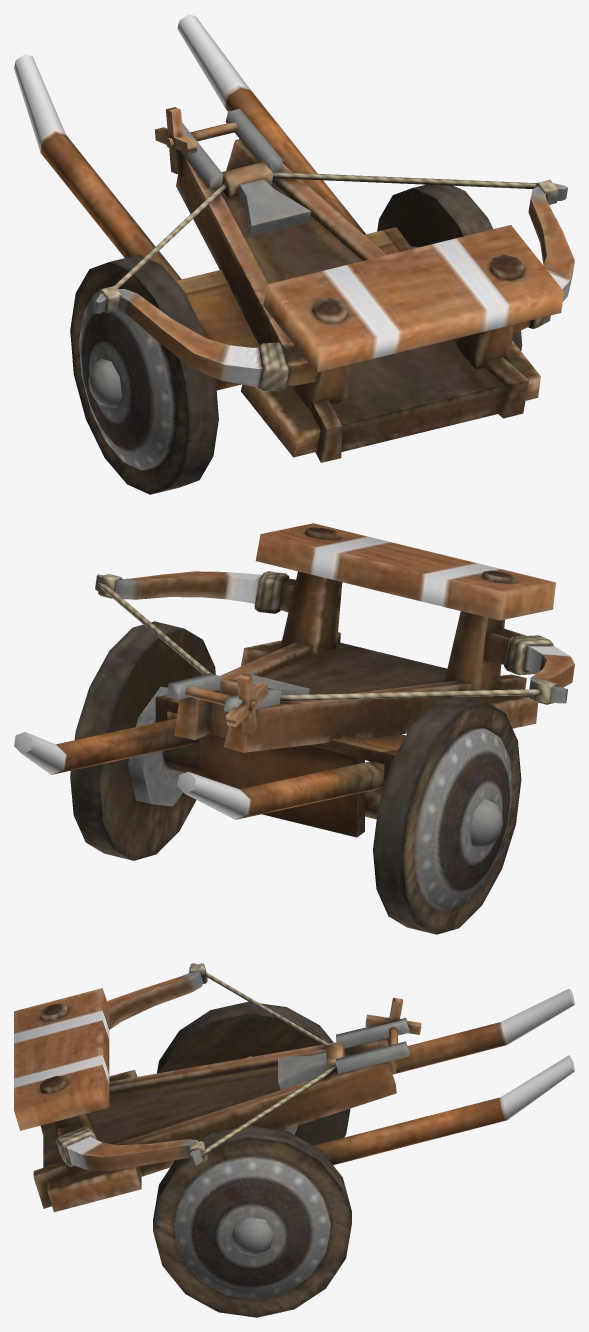
File: weapon-bronzeweapons.glb
The picture shows the model from 3 angles, top to bottom: view 1: azimuth 30°, elevation 25°; view 2: azimuth 150°, elevation 25°; view 3: azimuth 270°, elevation 25°; orthographic projection. The views are drawn at different scales.
Bounding box in the file's own units: 2.13 × 1.22 × 2.63.
Materials: 1 (1 with a texture image).
